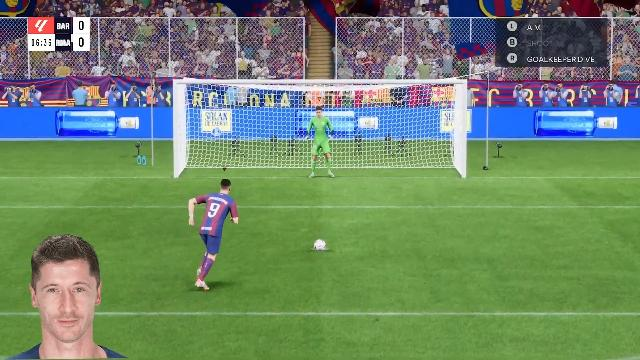football: (314, 240, 328, 250)
goal-bottom-left: (177, 137, 277, 177)
goal-bottom-right: (364, 138, 460, 178)
goal-middle-down: (278, 138, 360, 178)
goal-middle-up: (280, 87, 360, 135)
goal-top-left: (175, 85, 277, 133)
goal-top-right: (362, 85, 462, 133)
goalkeeper: (296, 106, 342, 178)
player: (184, 178, 244, 290)
